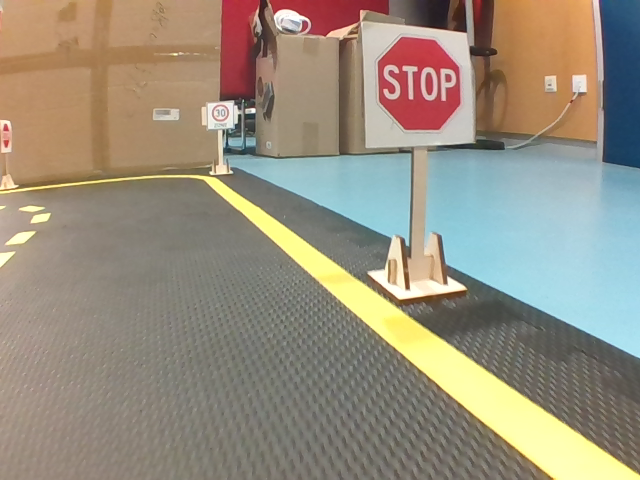30: (208, 102, 232, 128)
stop: (362, 22, 473, 142), (1, 121, 11, 151)
